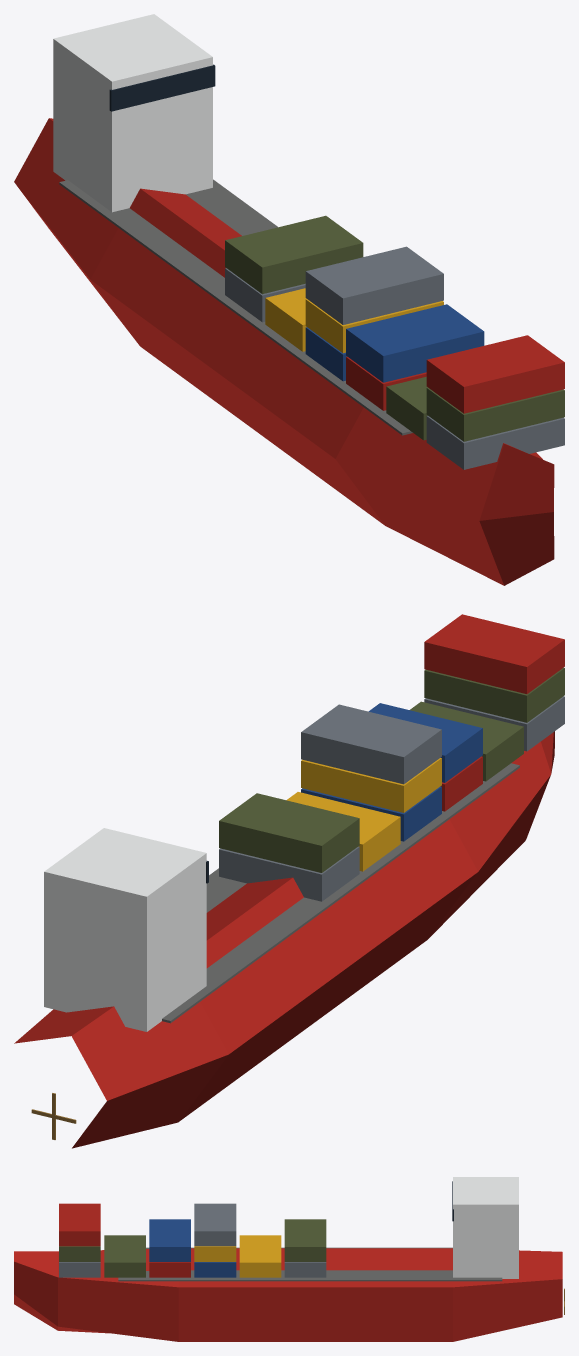
The model's file is veh_naval_merchant_a08_lod1.glb.
3 views of the same model, one above another, from view 1: azimuth 30°, elevation 25°; view 2: azimuth 150°, elevation 25°; view 3: azimuth 270°, elevation 25° (orthographic). The views are drawn at different scales.
Visible parts, largest first — view 1: body; view 2: body; view 3: body.
Part boxes in pixels (x1,y1,x2,y2): body: [14, 14, 564, 585]; body: [14, 614, 564, 1148]; body: [14, 1177, 562, 1341].
Size of the model in its own units: 4.89 by 9.66 by 31.73.
